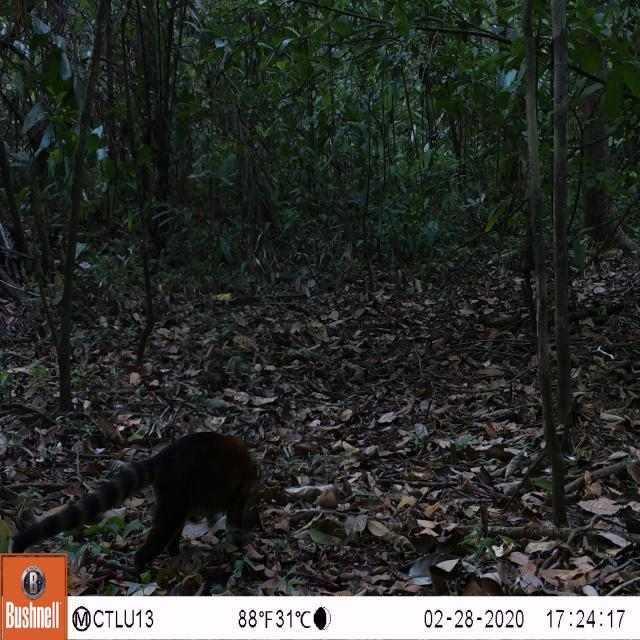South American Coati: (7, 418, 282, 570)
